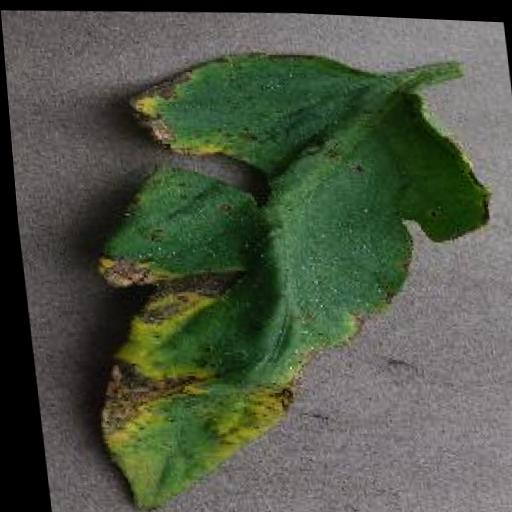Bacterial Spot: (49, 31, 512, 512)
